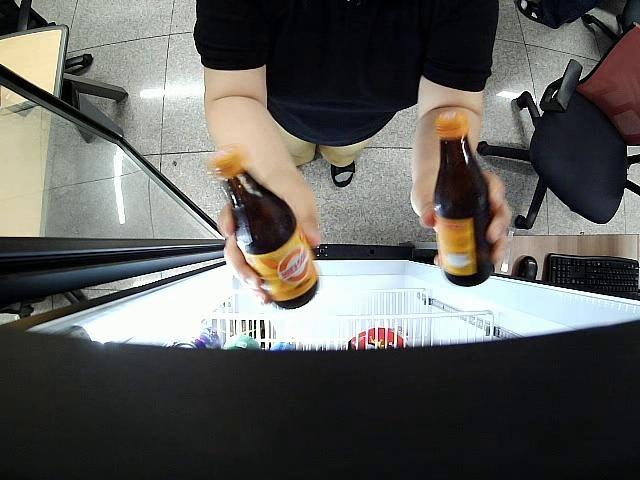17_vita500: (204, 142, 320, 312), (430, 109, 496, 288)
